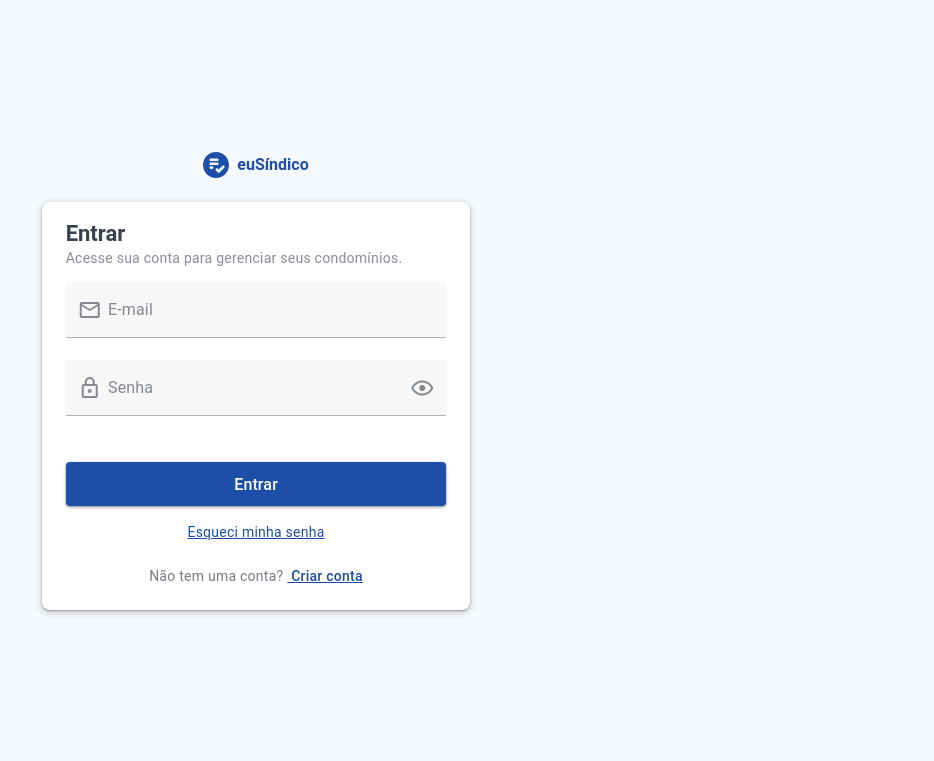
Compromissos (RF12-RF17, RF34) › lista os compromissos próprios e futuros por padrão (RN27)
This screenshot has width=934, height=761.
Type "sindico@exemplo.com" into the element with test id "email" at (257, 321), box x1=66 y1=282 x2=447 y2=360
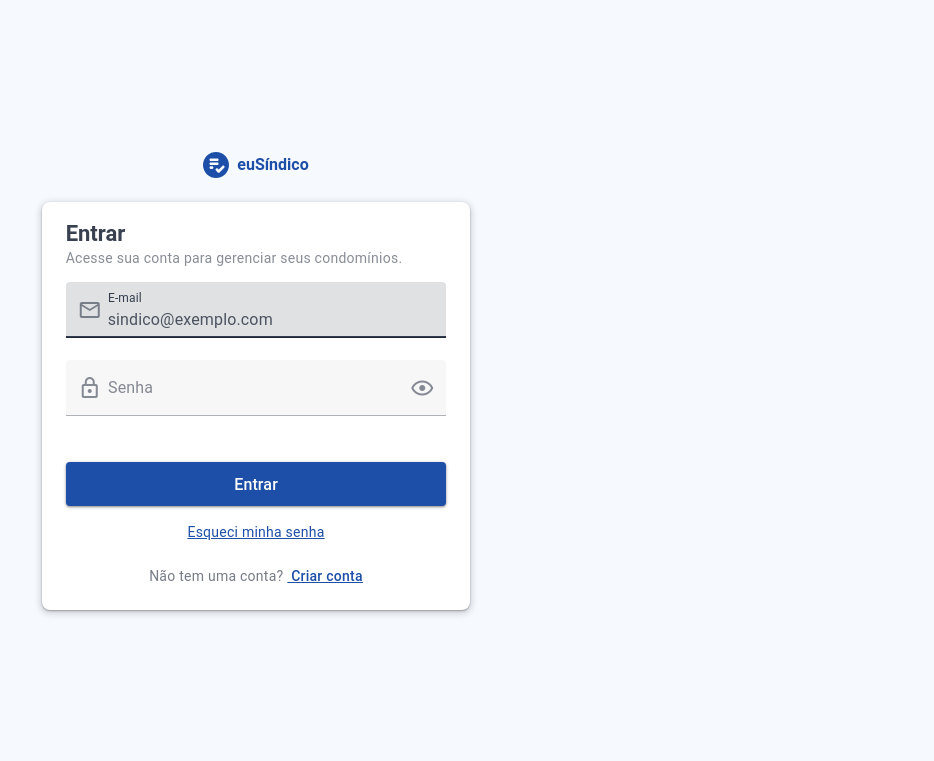
Type "SenhaForte1!" into the element with test id "senha" at (257, 399), box x1=66 y1=360 x2=447 y2=438
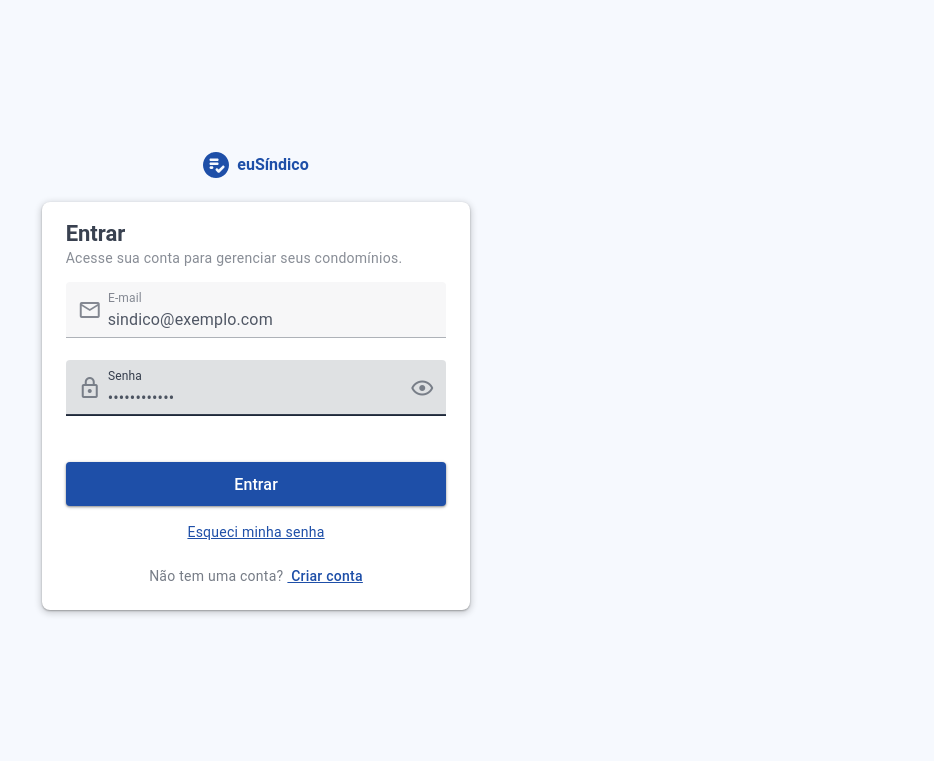
Click the button with test id "btn-entrar" at (257, 484), box x1=66 y1=462 x2=447 y2=506
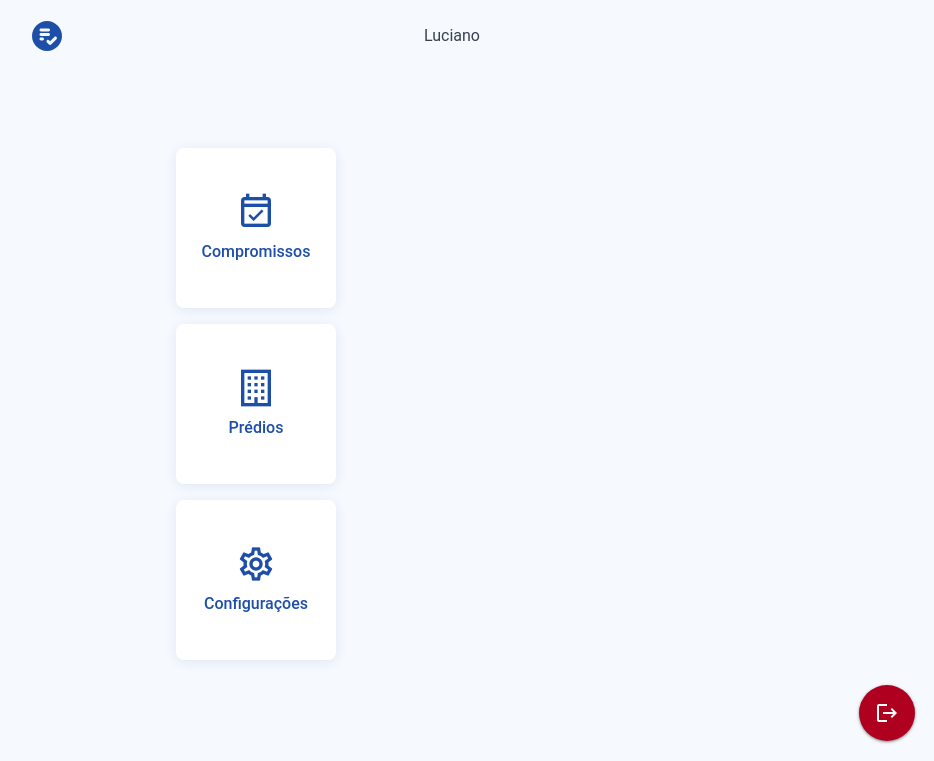
Click the link with test id "card-compromissos" at (256, 228), box x1=176 y1=148 x2=336 y2=308
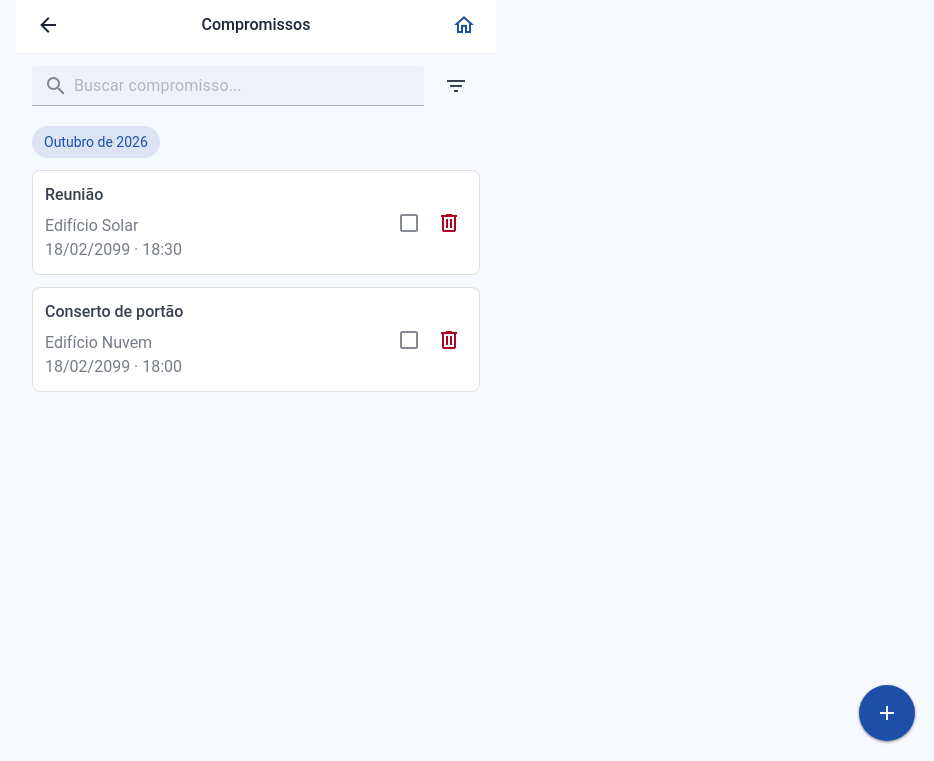
Result: the text with test id "compromisso-item-11" reads "Reunião" at x1=45 y1=185 x2=103 y2=204
Result: the text with test id "compromisso-item-11" reads "Edifício Solar" at x1=45 y1=216 x2=138 y2=235
Result: the text with test id "compromisso-item-12" reads "Conserto de portão" at x1=45 y1=302 x2=183 y2=321
